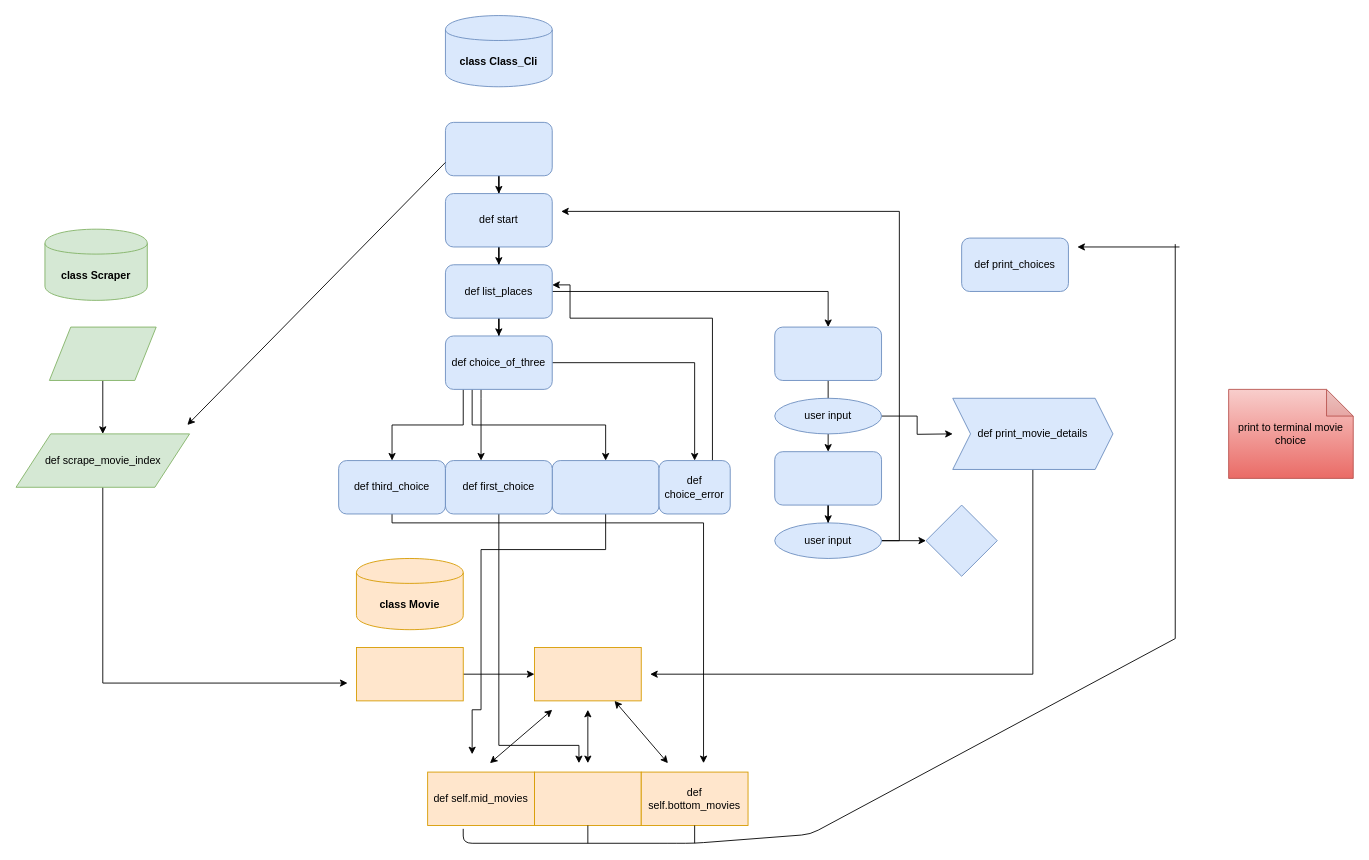
Some shapes in this 1369 by 860 pixel diagram are drawn without their labels. The centre of each missing label's shape, as x and y in pixels:
@@all [ ]: point 587,674
def call: point 498,148
def continue_choice: point 828,478
def get_page: point 102,353
def initialize: point 409,674
def last_choice: point 828,353
def second_choice: point 605,487
def self.top_movies: point 587,798
exit: point 961,540
